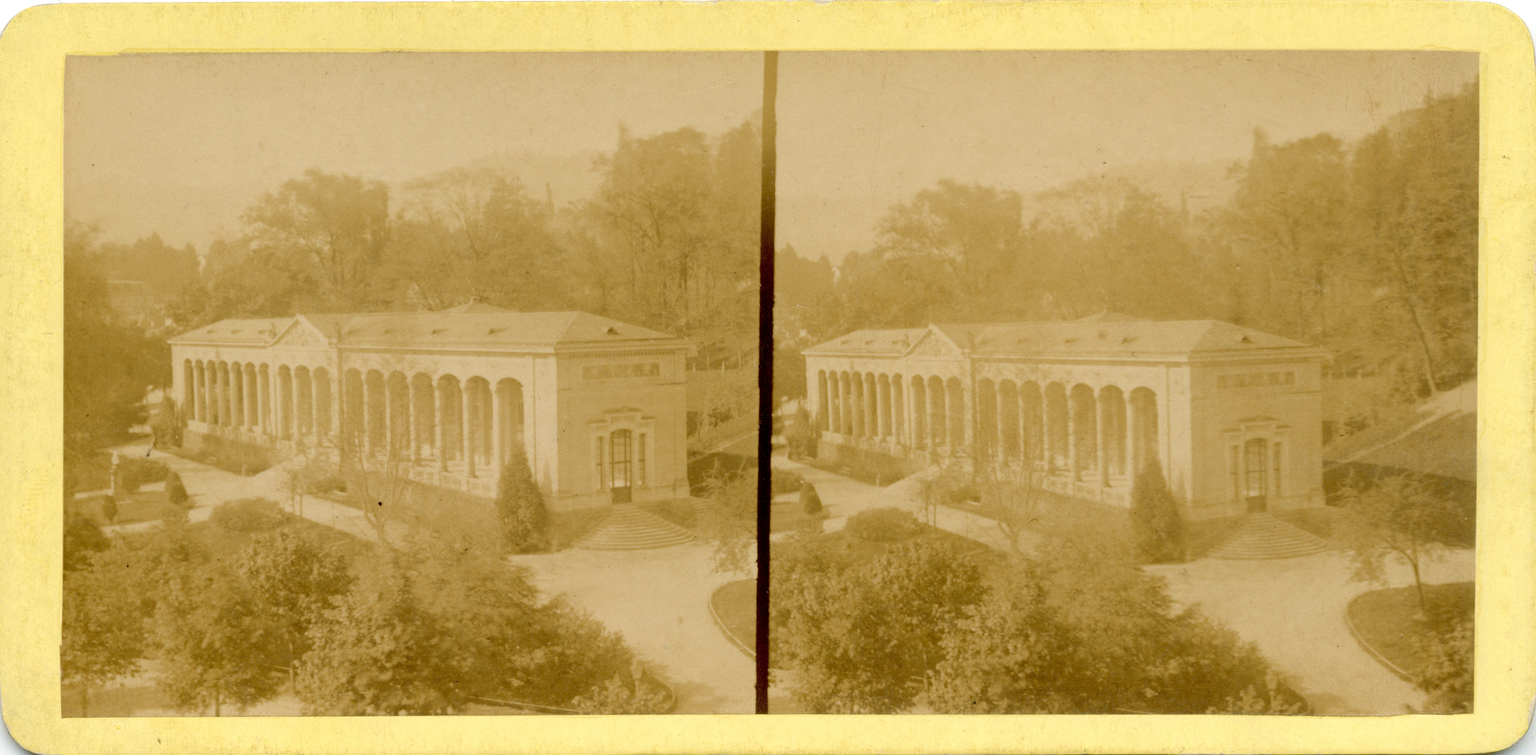half_image: (769, 51, 1478, 714), (63, 50, 764, 718)
